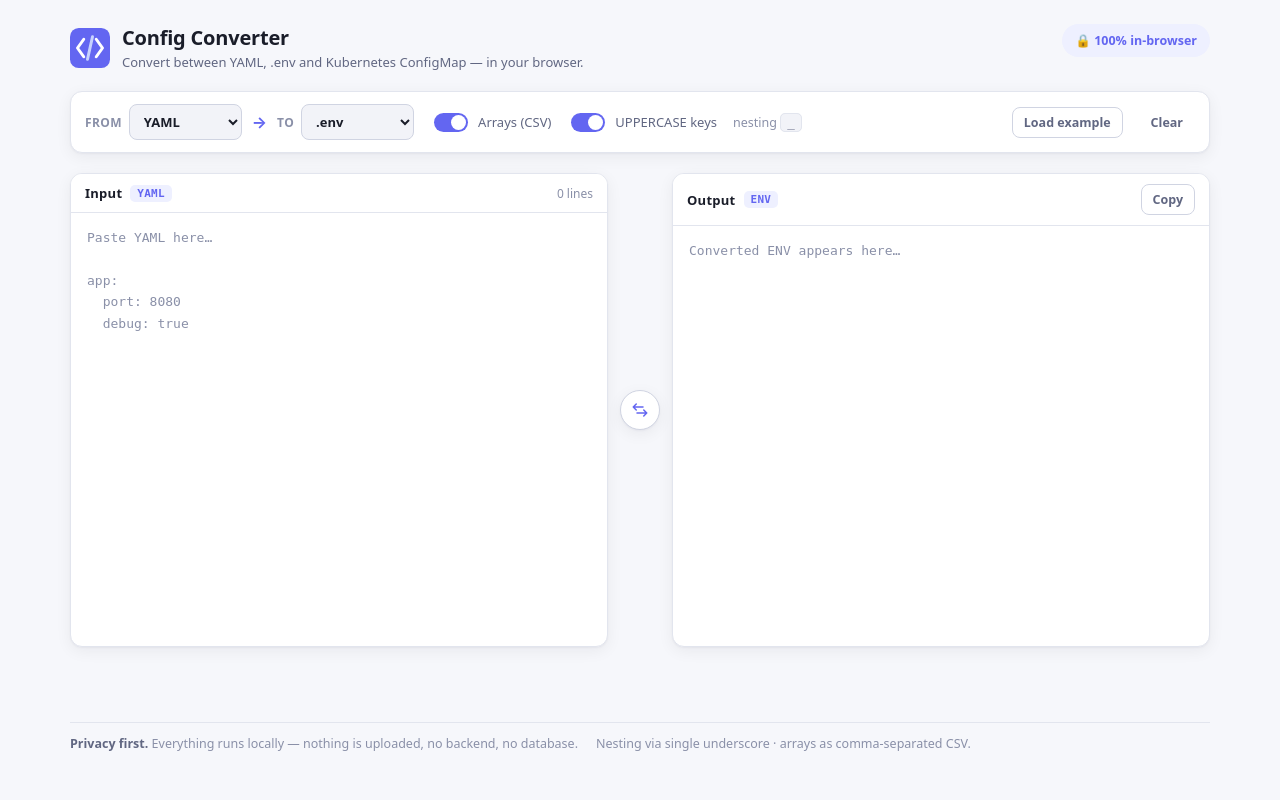
Test: App › clears the input
Type "a: 1" into the text box named "Input" at coordinates (339, 430), box x1=71 y1=213 x2=607 y2=646
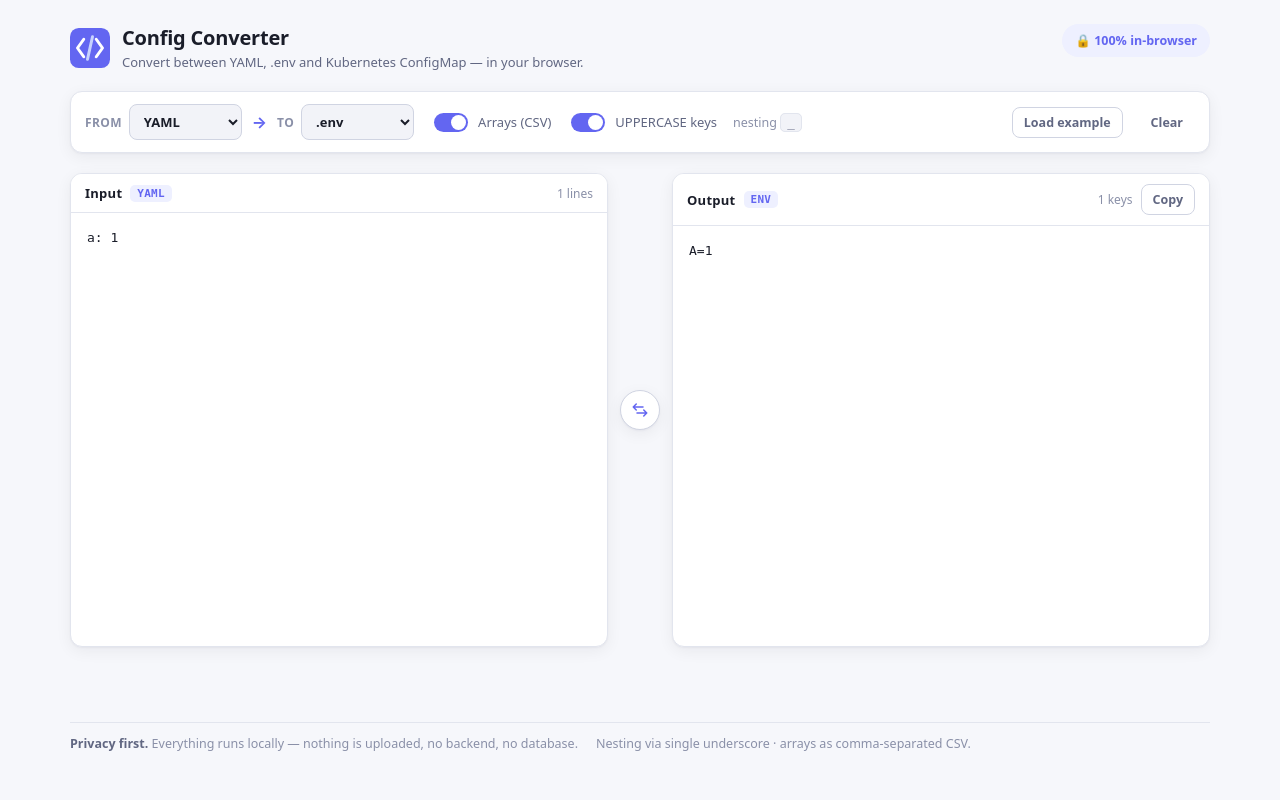
Click the button "Clear" at coordinates (1167, 122), box x1=1139 y1=106 x2=1195 y2=138
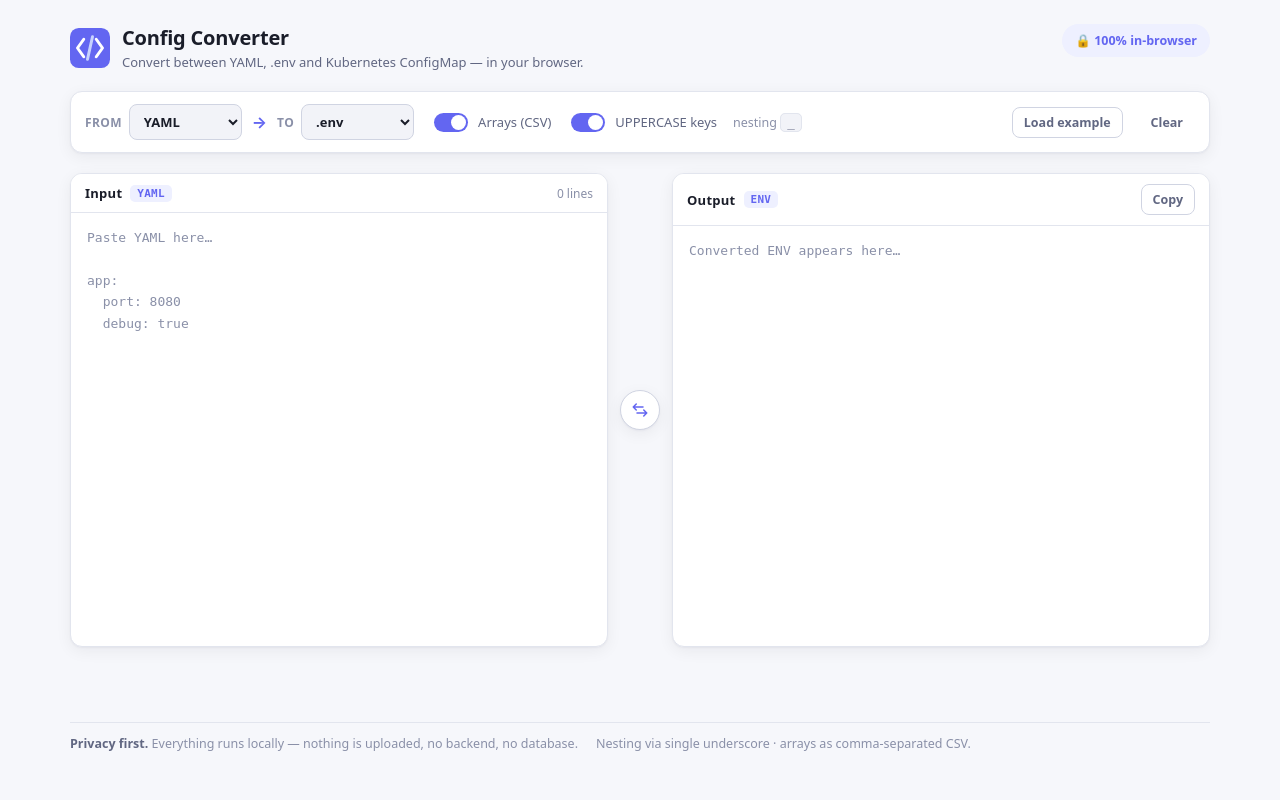
expect the text box named "Input" is empty: met, box x1=71 y1=213 x2=607 y2=646
